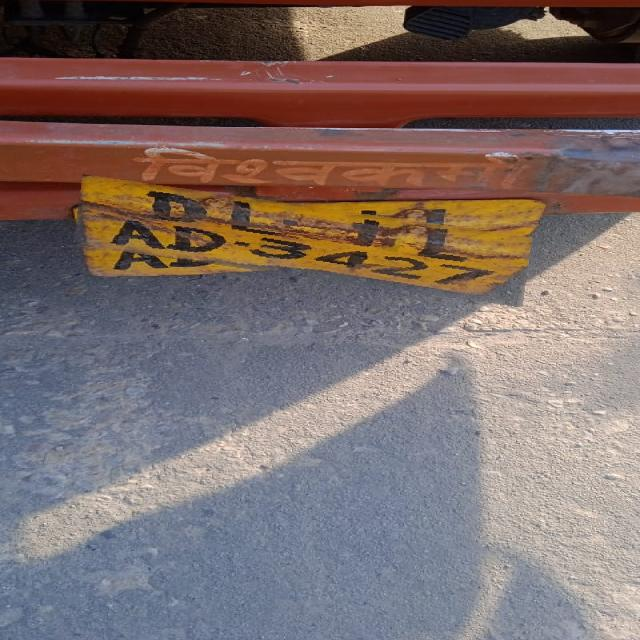License-plate: (74, 190, 531, 291)
